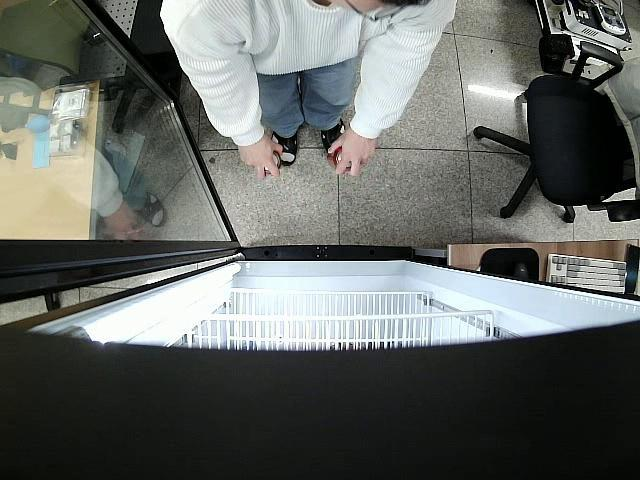11_cocaColaZero: (328, 147, 352, 170), (263, 151, 280, 175)
